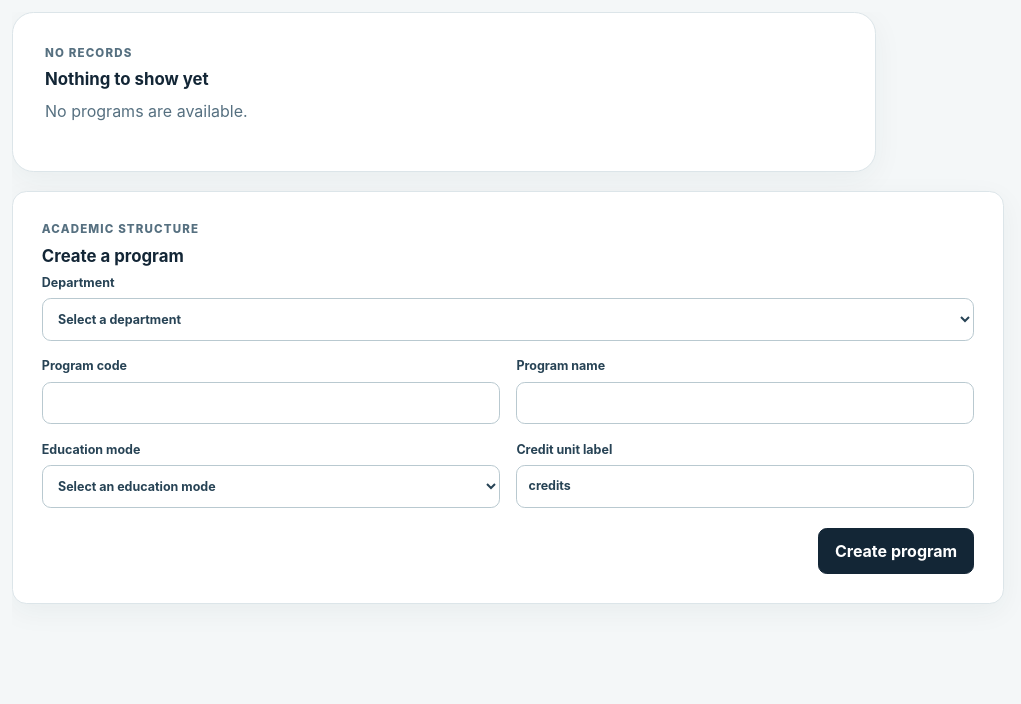
ProgramAdministration › creates a program with its education mode and credit label
The image size is (1021, 704).
Select "Computer Science" in the dropdown labelled "Department" at (508, 319), box [42,298,974,341]
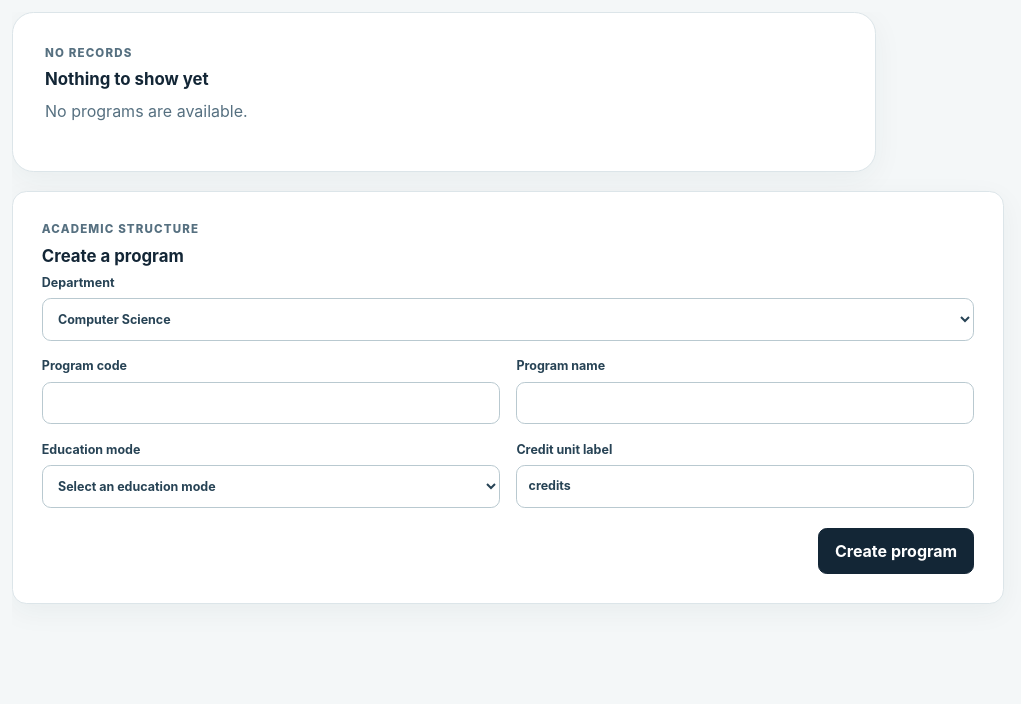
Type "BSCS" into the field labelled "Program code" at (271, 403), box [42,382,500,424]
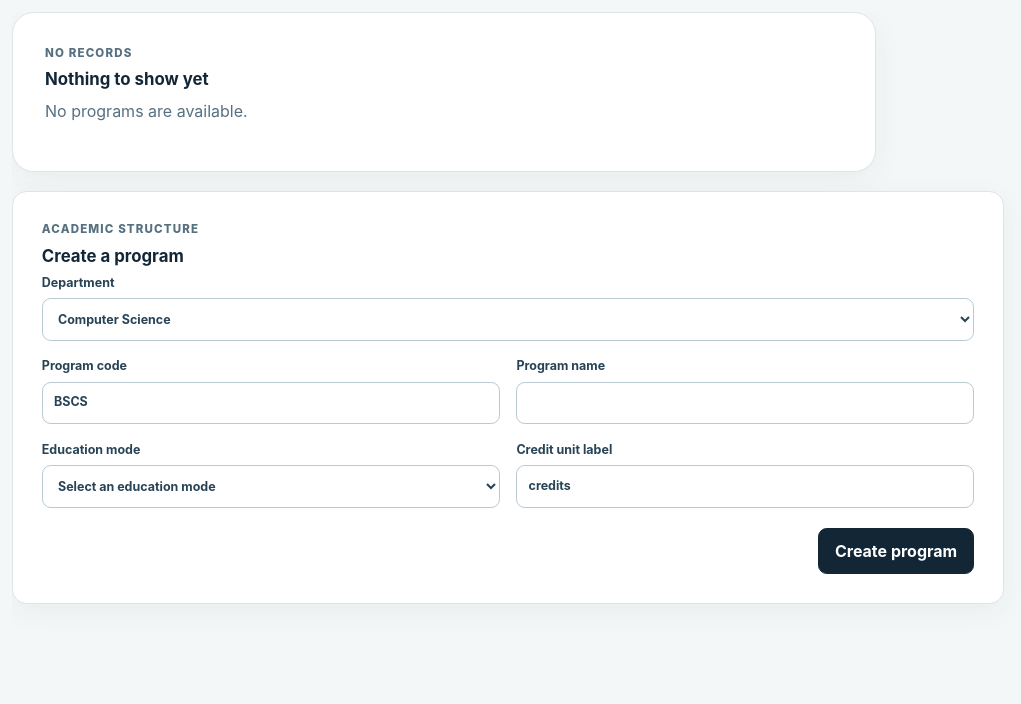
Type "Computer Science" into the field labelled "Program name" at (745, 403), box [516,382,974,424]
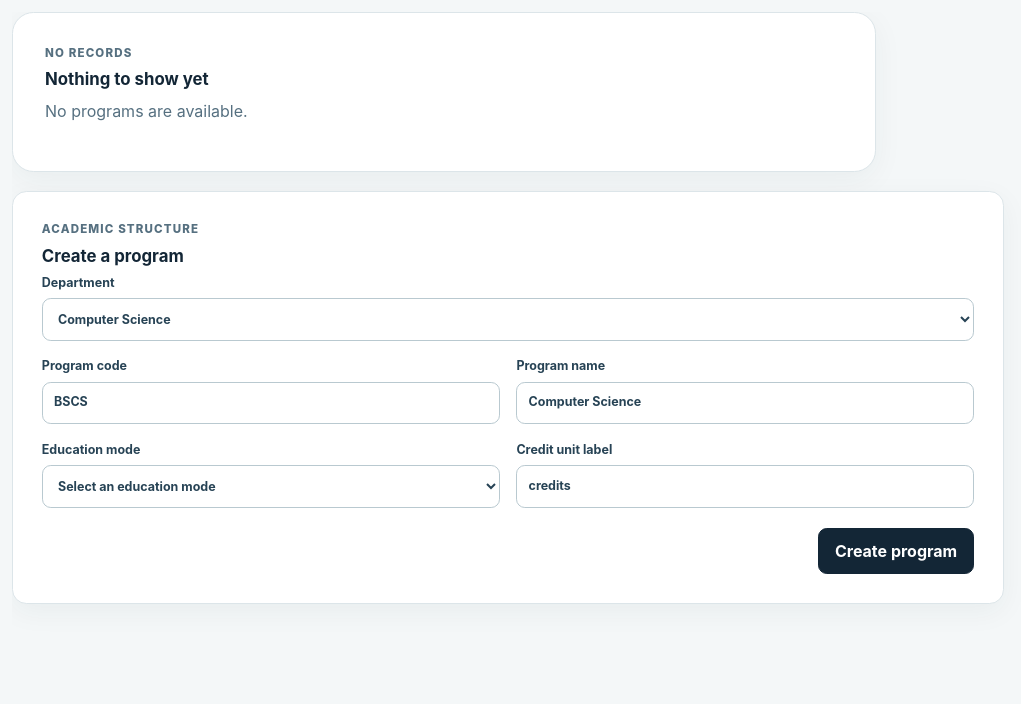
Select "Flexible selection" in the dropdown labelled "Education mode" at (271, 486), box [42,465,500,508]
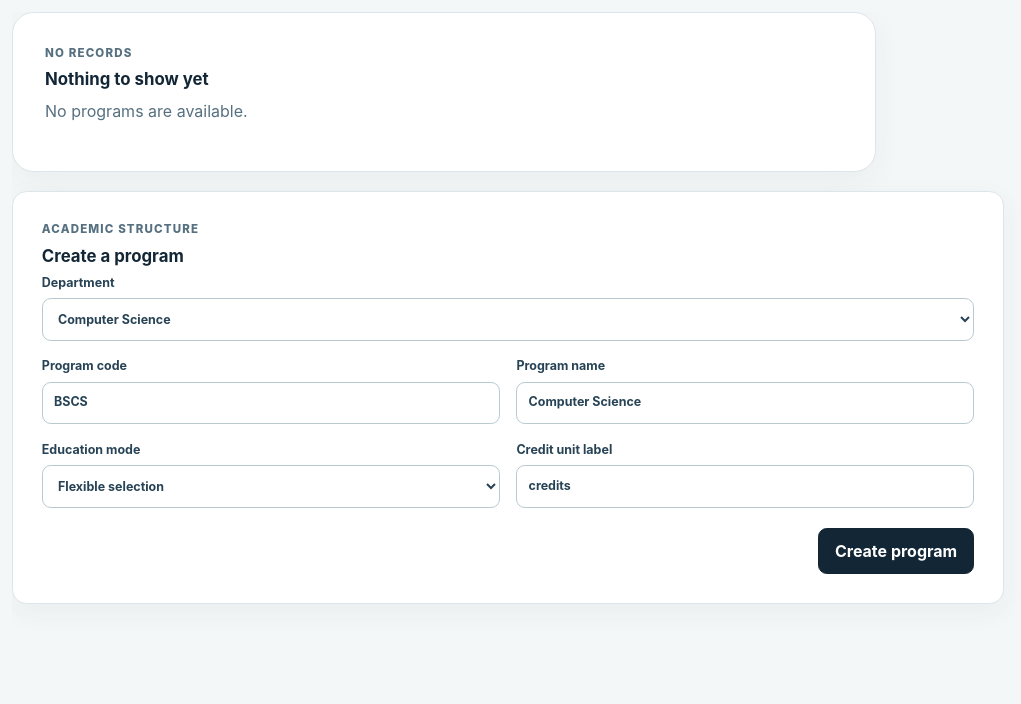
Replace the text in the field labelled "Credit unit label" with "ECTS" at (745, 486), box [516,465,974,508]
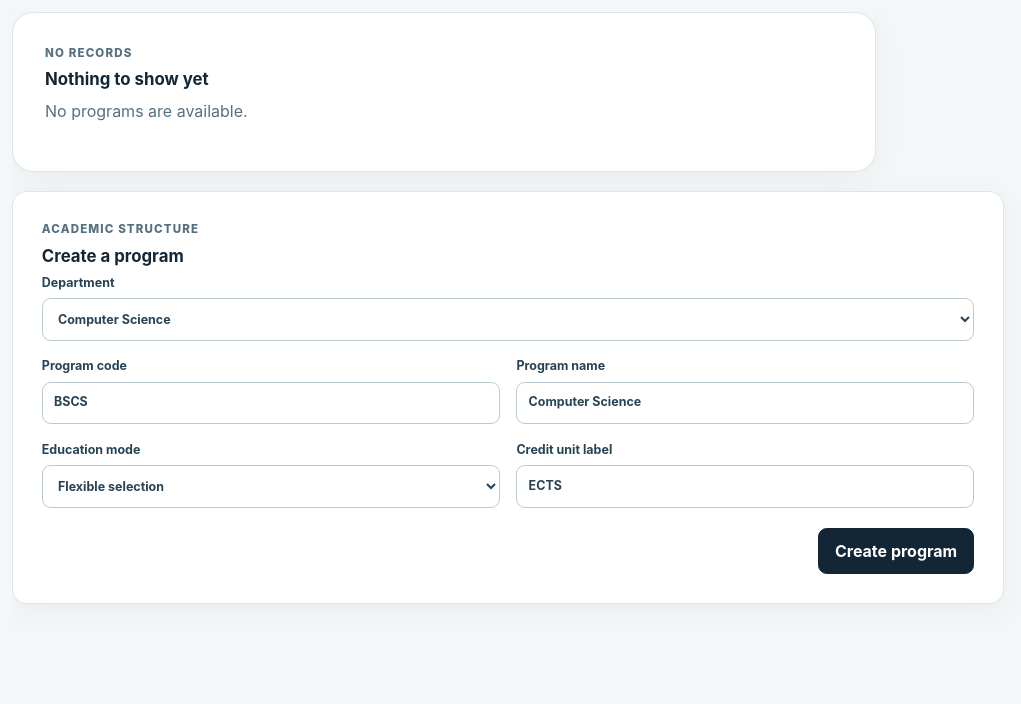
Click the button "Create program" at (896, 551), box [818,528,974,574]
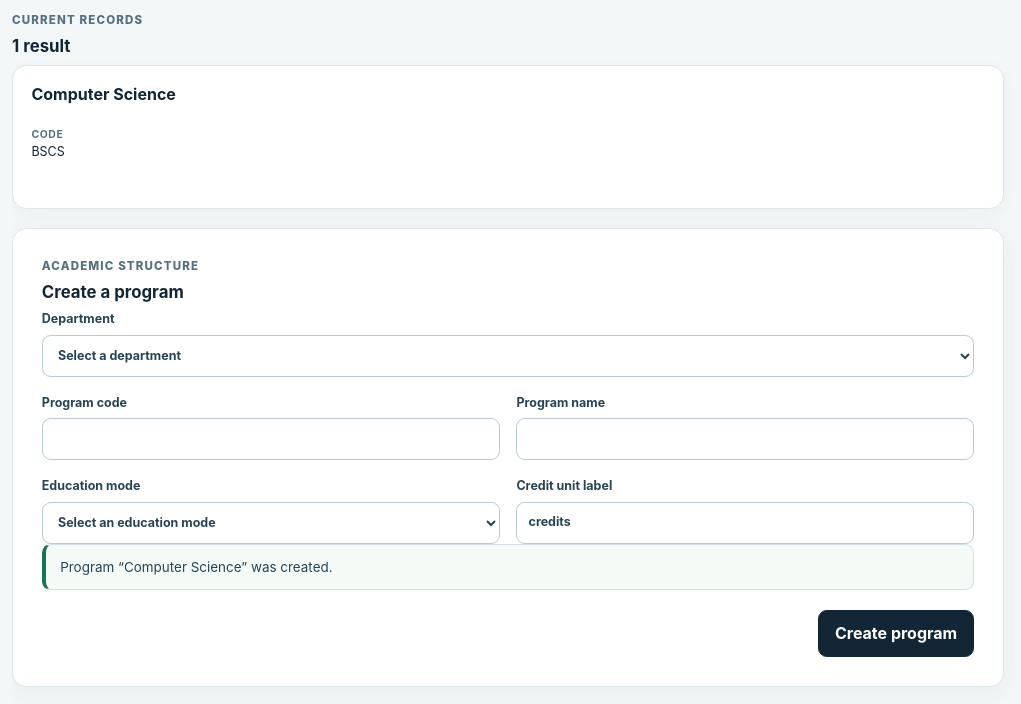
Check: the text "Program “Computer Science” was created." is shown, box [42,544,974,590]
